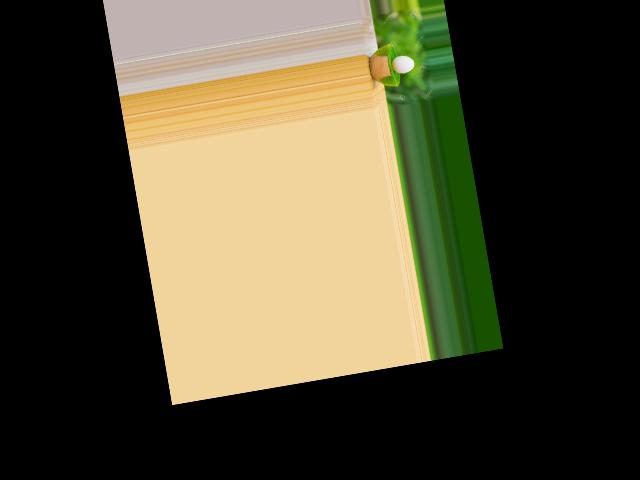egg: (390, 53, 415, 74)
